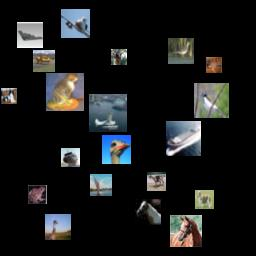airplane: (89, 94, 127, 132), (61, 9, 90, 38), (17, 22, 43, 48), (33, 50, 55, 72)
bird: (194, 83, 229, 118), (102, 135, 131, 164), (45, 214, 71, 240), (168, 38, 194, 64), (111, 49, 127, 65)
cat: (46, 73, 84, 111), (206, 57, 222, 73)
dog: (195, 190, 214, 209), (1, 88, 17, 104)
frog: (28, 185, 47, 204)
ship: (166, 121, 201, 156), (90, 174, 112, 196), (61, 148, 80, 167)
